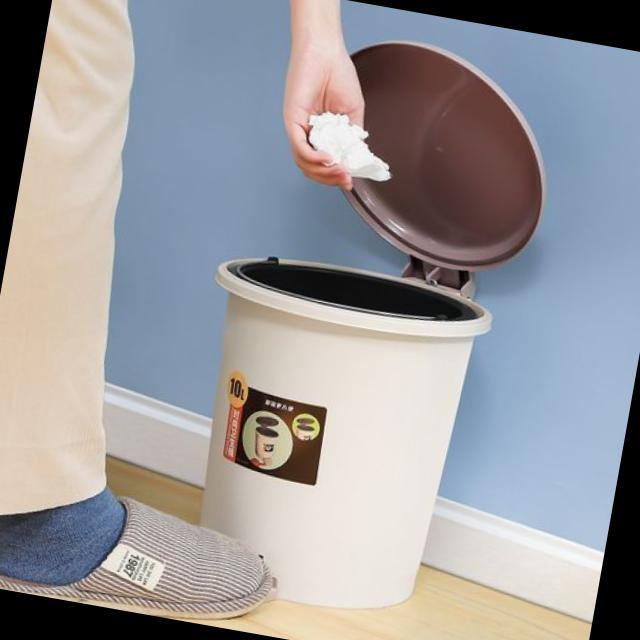crumpled_paper: (290, 100, 408, 190)
dustbin: (154, 238, 501, 632)
